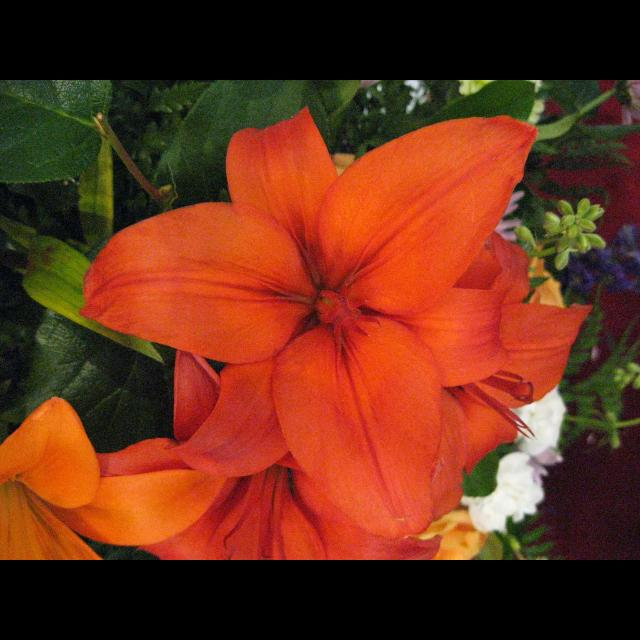Flower: (3, 104, 590, 558)
